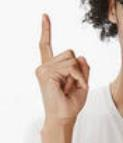up: (35, 13, 91, 119)
